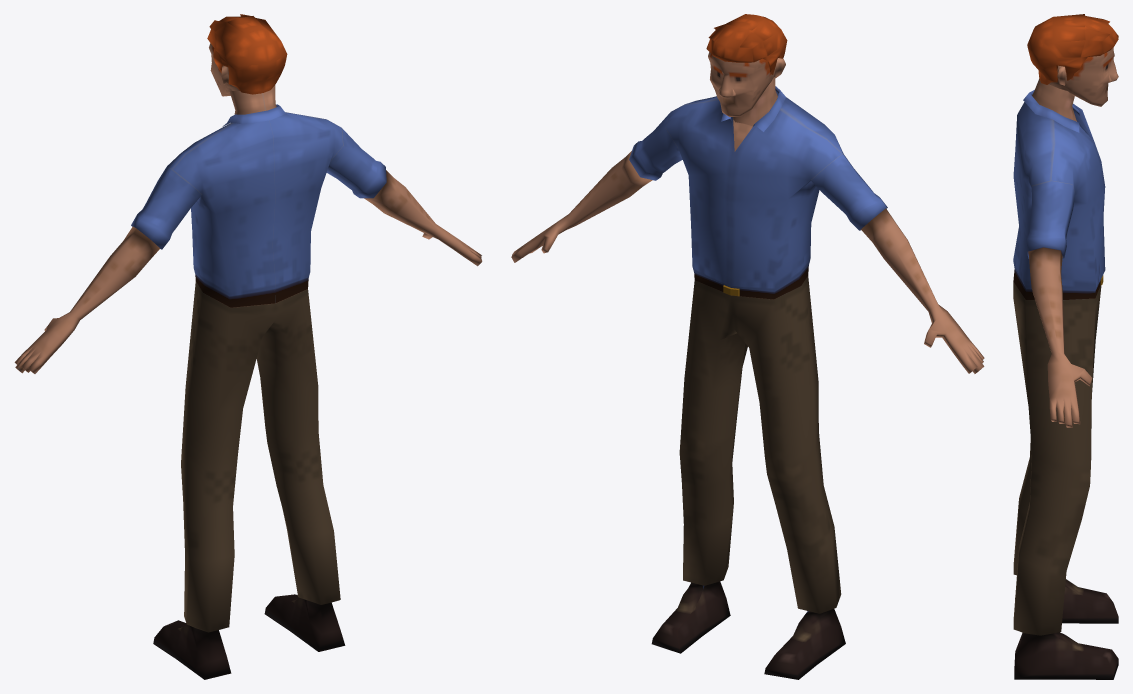
File: abnerTest01002Rev.fbx
The picture shows the model from 3 angles, left to right: view 1: azimuth 30°, elevation 25°; view 2: azimuth 150°, elevation 25°; view 3: azimuth 270°, elevation 25°; orthographic projection.
Parts seen in each view (by area): view 1: baseCharacter01Rev; view 2: baseCharacter01Rev; view 3: baseCharacter01Rev.
Boxes of the visible parts, <box> form: baseCharacter01Rev: <box>14,14,482,679</box>; baseCharacter01Rev: <box>511,14,984,679</box>; baseCharacter01Rev: <box>1013,14,1118,679</box>.
Size of the model in its own units: 1.31 by 1.67 by 0.256.
1 material, 1 textured.
